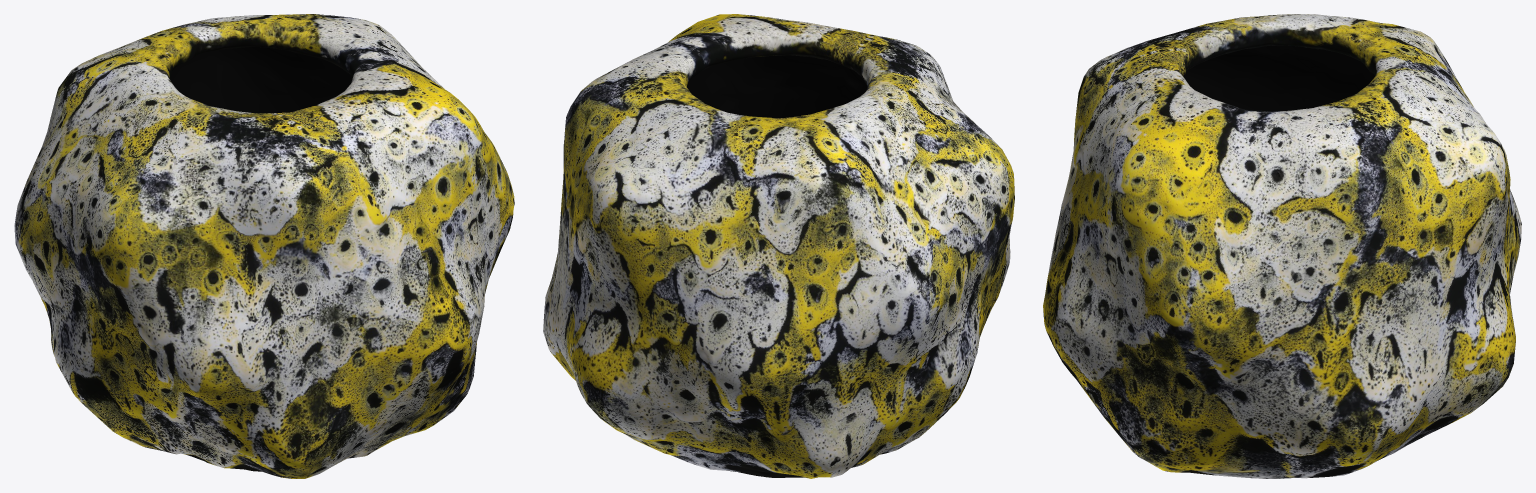
Rendered from vase_01_yellow.glb.
The picture shows the model from 3 angles, left to right: view 1: azimuth 30°, elevation 25°; view 2: azimuth 150°, elevation 25°; view 3: azimuth 270°, elevation 25°; orthographic projection. The views are drawn at different scales.
Visible parts, largest first — view 1: Small_ar; view 2: Small_ar; view 3: Small_ar.
Boxes of the visible parts, x1,y1,x2,y2 form: Small_ar: [14, 14, 514, 478]; Small_ar: [543, 14, 1014, 478]; Small_ar: [1043, 14, 1521, 478].
Size of the model in its own units: 0.2098 by 0.1797 by 0.2066.
2 materials, 1 textured.
